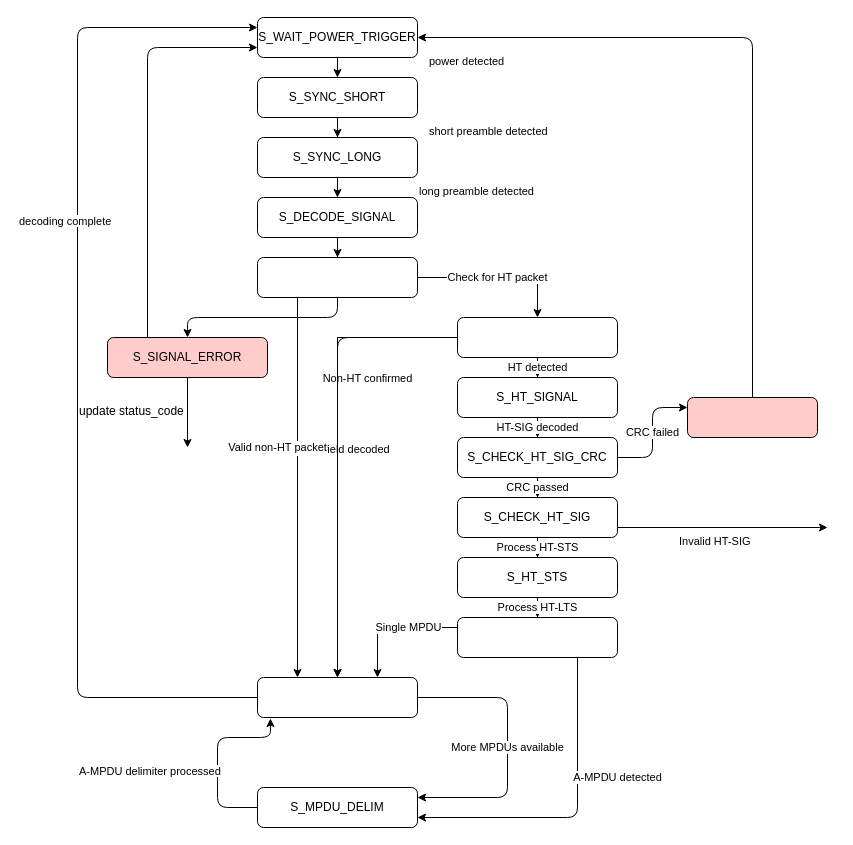
The diagram is 853 pixels wide and 845 high, and some of its shapes have lost their labels. Here are the shapes that lost their labels. From the top down, the box of each, then its label:
(256, 256, 418, 298): S_CHECK_SIGNAL
(456, 316, 618, 358): S_DETECT_HT
(686, 396, 818, 438): S_HT_SIG_ERROR
(456, 616, 618, 658): S_HT_LTS
(256, 676, 418, 718): S_DECODE_DATA
